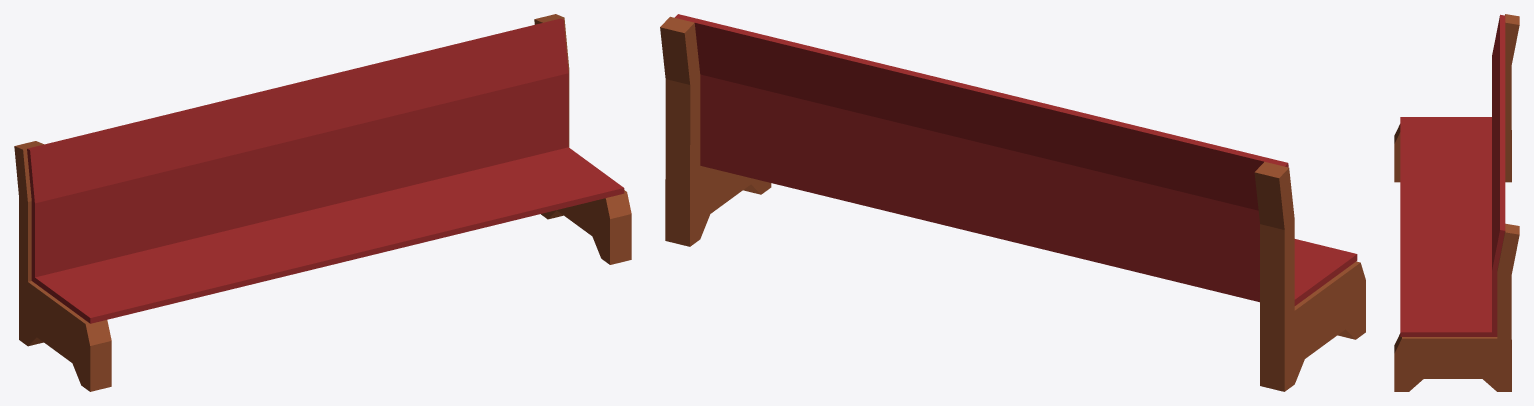
File: Prop_Furniture_Fantasy_Church_Pew_01.FBX
3 views of the same model, side by side, from view 1: azimuth 30°, elevation 25°; view 2: azimuth 150°, elevation 25°; view 3: azimuth 270°, elevation 25° (orthographic). The views are drawn at different scales.
Parts seen in each view (by area): view 1: Prop_Furniture_Fantasy_Church_Pew_01; view 2: Prop_Furniture_Fantasy_Church_Pew_01; view 3: Prop_Furniture_Fantasy_Church_Pew_01.
Part boxes in pixels (left/top/right/bottom): Prop_Furniture_Fantasy_Church_Pew_01: left=14, top=14, right=631, bottom=391; Prop_Furniture_Fantasy_Church_Pew_01: left=660, top=14, right=1365, bottom=391; Prop_Furniture_Fantasy_Church_Pew_01: left=1394, top=14, right=1519, bottom=391.
Size of the model in its own units: 2752 by 943 by 668.
